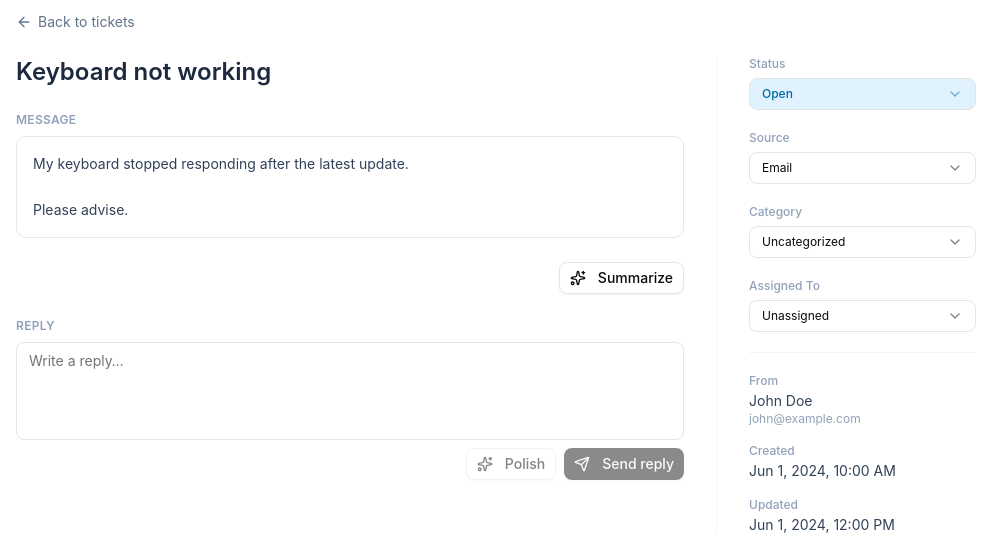
Test case: TicketDetailPage › polish reply › replaces the textarea content with the polished text on success
Expected: the heading "Keyboard not working" is shown, [16,57,271,86]
In the text box with placeholder "Write a reply…": (350, 391) [16,342,684,440], type "hey thanks for reachin out"
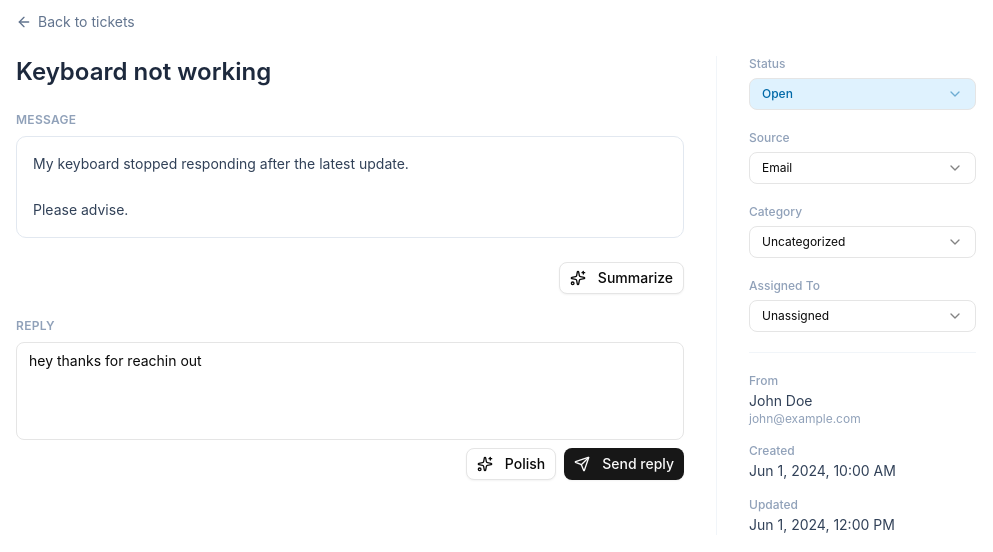
Click the button "Polish": (511, 464) [466,448,556,480]
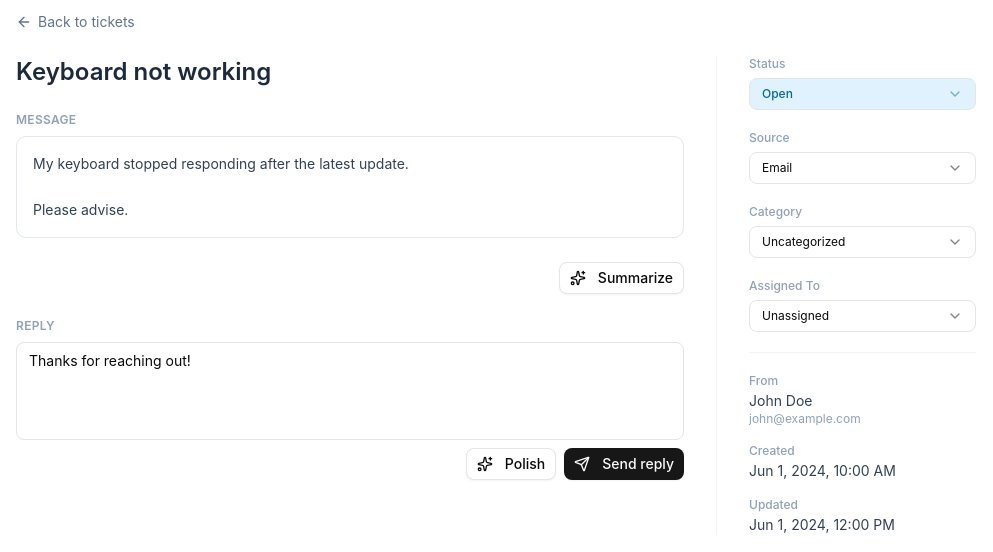
Expected: the text box with placeholder "Write a reply…" holds "Thanks for reaching out!", [16,342,684,440]
